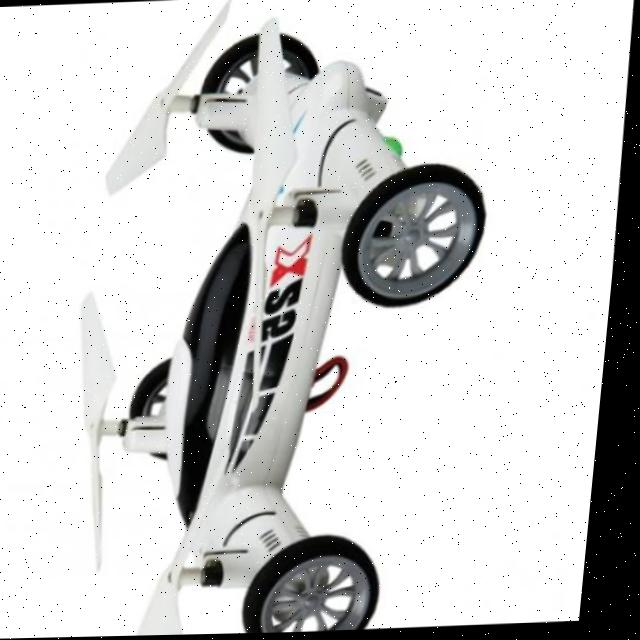drones: (32, 0, 527, 639)
